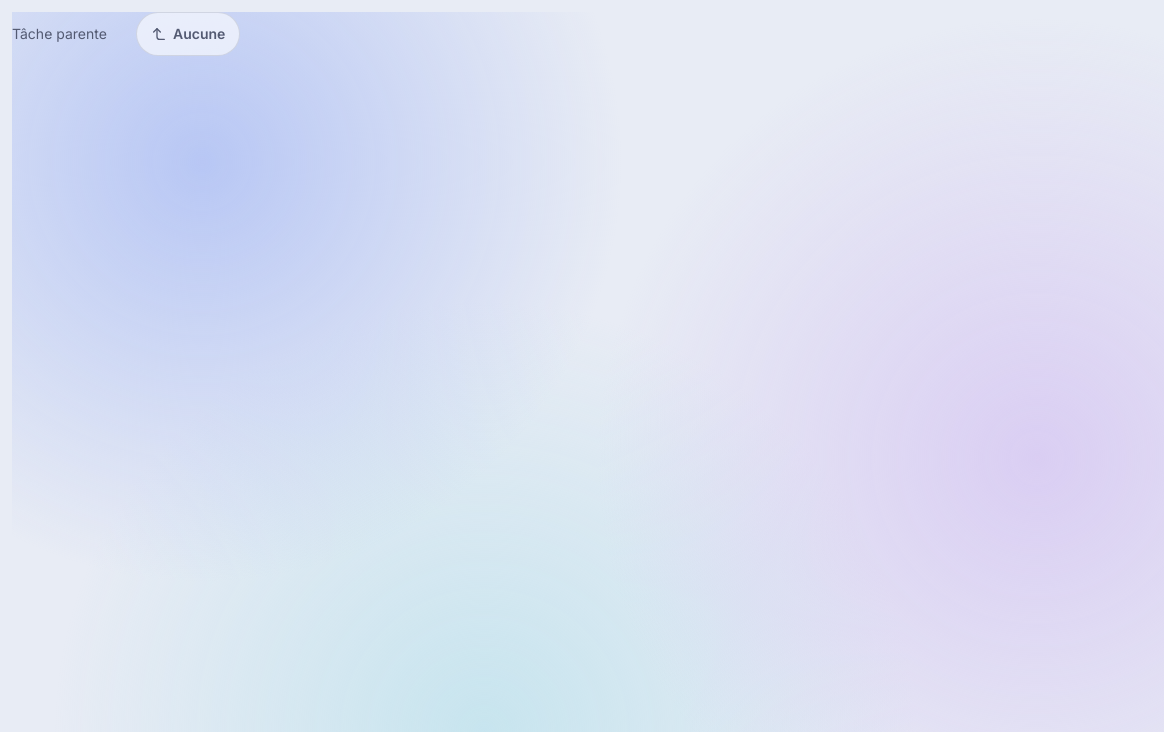
Test: propriété « Tâche parente » › échec sans code : message générique
The width and height of the screenshot is (1164, 732).
Click the button with aria-label "Tâche parente : Aucune" at (188, 34), box [136,12,240,56]
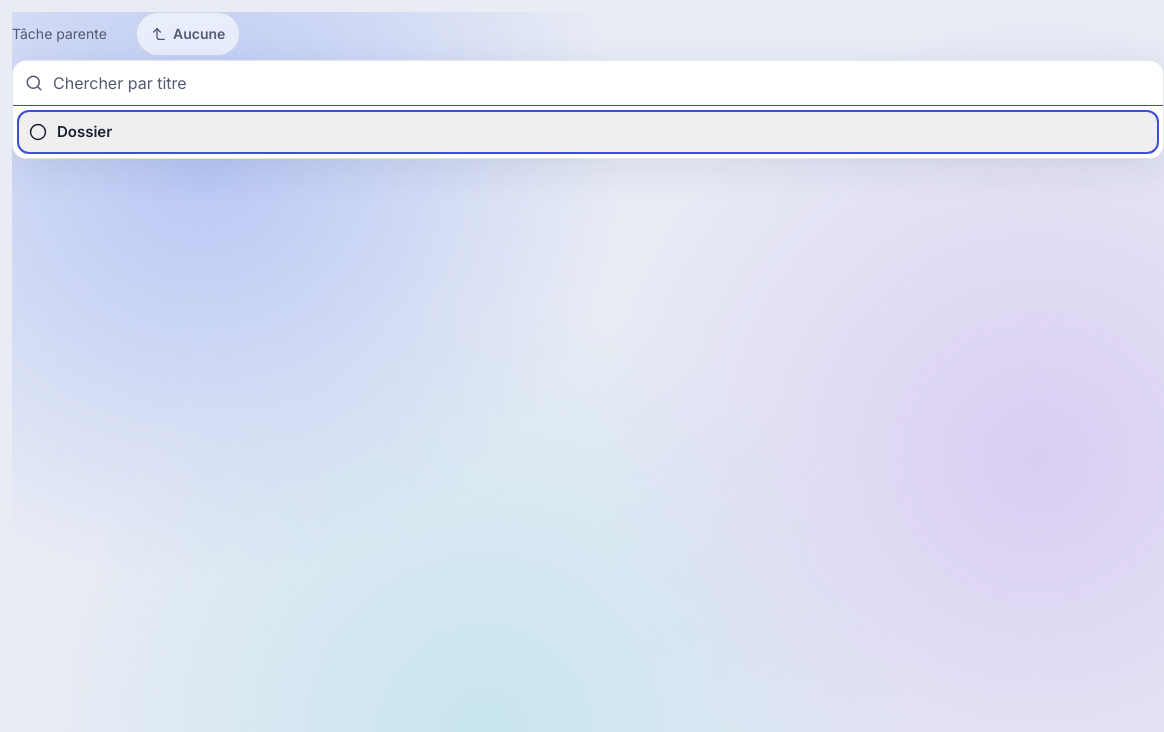
Click the option "Dossier" at (85, 131), box [17,110,1159,154]
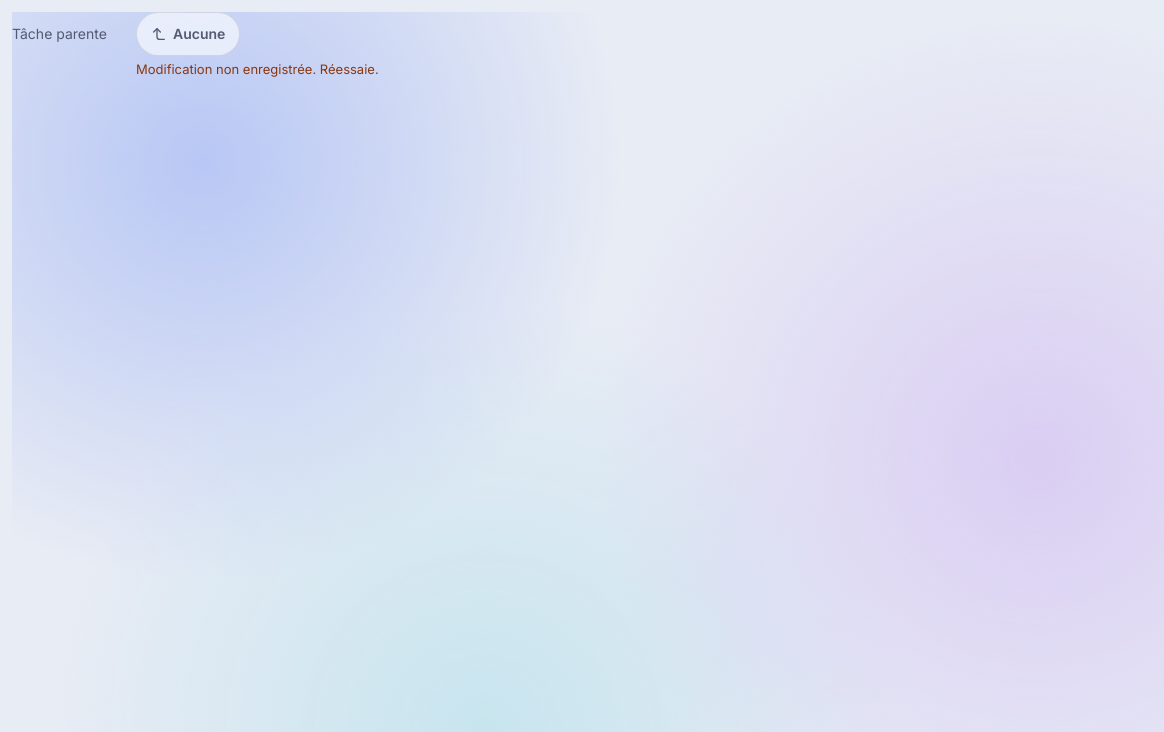
expect the message reads "Modification non enregistrée. Réessaie.": met, box [136,61,379,77]
